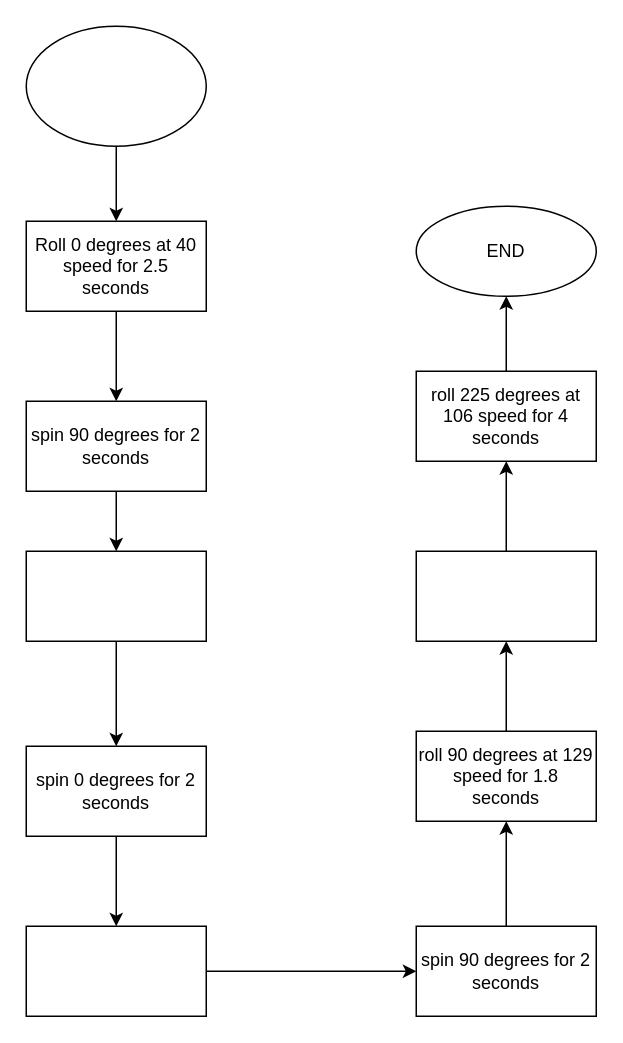
The diagram is 623 pixels wide and 1043 high, and some of its shapes have lost their labels. Here are the shapes that lost their labels. From the top down, the centre of each, then its label:
At pixel 115 85: "START".
At pixel 115 595: "roll 90 degrees at 40 speed for 2.2 seconds".
At pixel 505 595: "roll 90 degrees at 40 speed for 1.5 seconds".
At pixel 115 970: "roll 0 degrees at 40 speed for 2.8 seconds".
